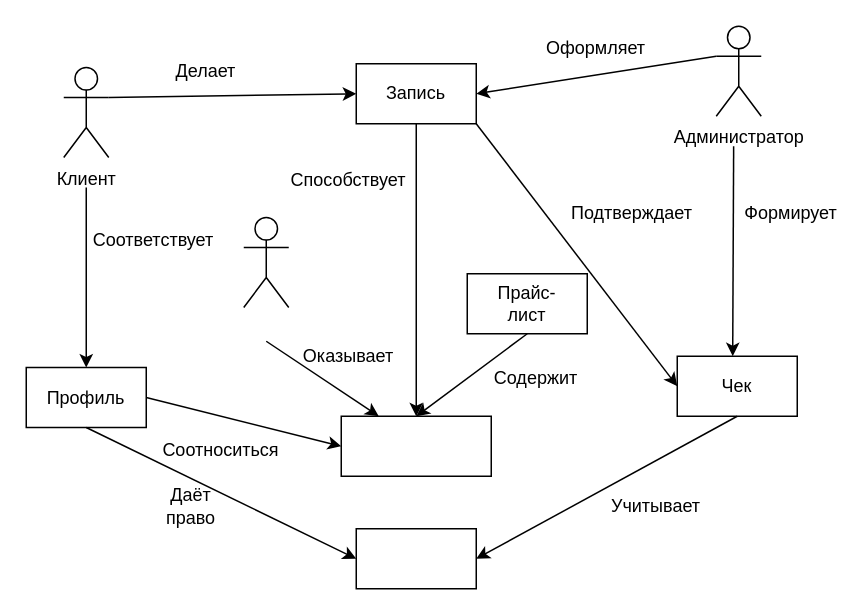
Image size: 864x615. Some labels were removed from this diagram. The shapes that lost their labels are listed below. From the top down, each one's box as (x1, y1, x2, y2) in pixels, then its label:
(242, 216, 289, 308): Мастер
(340, 415, 491, 476): Услуга
(355, 527, 476, 589): Скидка (если есть)
